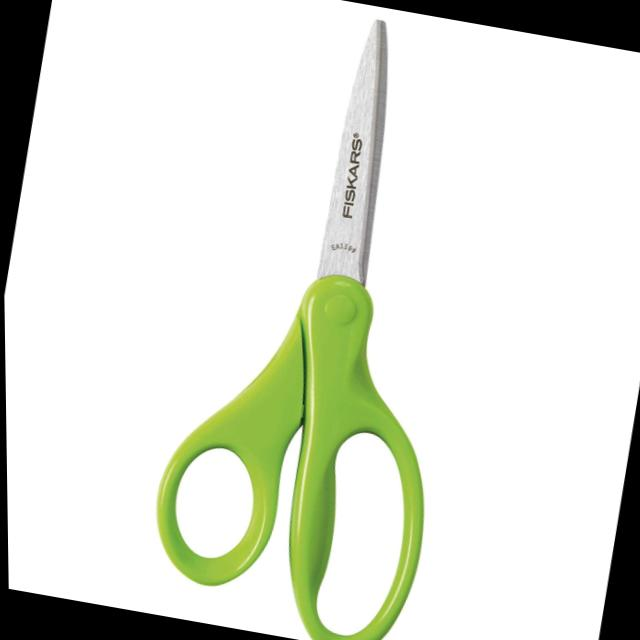scissor: (118, 0, 517, 640)
